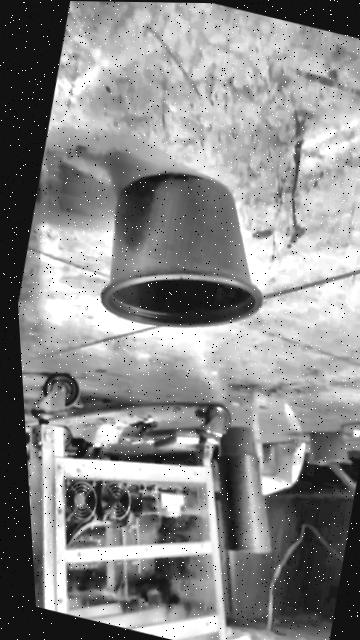pot: (87, 156, 286, 348)
